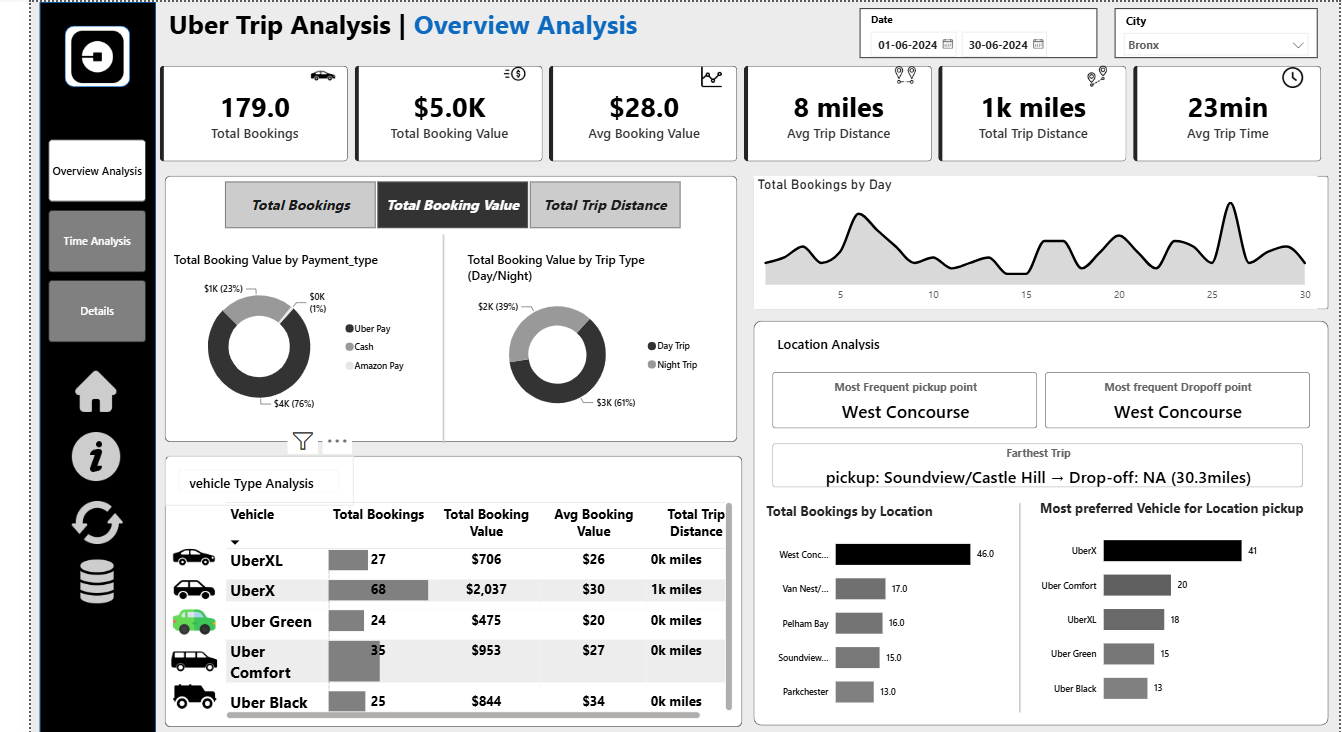

The dashboard page shown, as its layout file describes it:
{"tool":"powerbi","page":{"name":"Overview Analysis","canvas":[1600,900],"ordinal":0},"visuals":[{"type":"shape","box":[10.3,0,142,900.5],"z":0},{"type":"textbox","box":[163.6,0,781.1,197.2],"z":1000},{"type":"cardVisual","fields":{"Data":["Trip Details.Total Bookings","Trip Details.Total Booking Amount","Trip Details.Avg Booking Amount","Trip Details.Avg Trip Distance","Trip Details.Total Trip Distance","Trip Details.Avg Trip Time"]},"box":[140.6,61.1,1459.8,151.3],"z":2000},{"type":"image","box":[567.1,74.9,48.9,26],"z":3000},{"type":"image","box":[1051.6,76.4,35.2,26],"z":4000},{"type":"image","box":[1284,78,41.3,26],"z":5000},{"type":"image","box":[1530.1,78,26,29],"z":6000},{"type":"shape","box":[163.6,212.5,700.1,325.6],"z":7000},{"type":"slicer","fields":{"Values":["Dynamic Measure.Dynamic Measure"]},"box":[210.9,212.7,607.3,70.9],"z":8000},{"type":"image","box":[817.8,76.4,29,30.6],"z":9000},{"type":"donutChart","fields":{"Y":["Trip Details.Total Bookings"],"Category":["Trip Details.Payment_type"]},"box":[169.1,303.6,300,214.5],"z":10000},{"type":"image","box":[331.7,73.4,52,33.6],"z":11000},{"type":"donutChart","fields":{"Y":["Trip Details.Total Bookings"],"Category":["Trip Details.Trip Type (Day/Night)"]},"box":[529.1,303.6,300,214.5],"z":12000},{"type":"shape","box":[163.6,554.9,706.2,331.7],"z":13000},{"type":"pivotTable","fields":{"Rows":["Trip Details.Vehicle"],"Values":["Trip Details.Total Bookings","Trip Details.Total Booking Value","Trip Details.Avg Booking Value","Trip Details.Total Trip Distance"]},"box":[234.5,607.3,629.1,274.5],"z":14000},{"type":"image","box":[170.1,732.2,59.6,52],"z":15000},{"type":"image","box":[170.1,692.4,59.6,52],"z":16000},{"type":"image","box":[168.6,773.4,62.7,65.7],"z":17000},{"type":"image","box":[168.6,649.6,62.7,58.1],"z":18000},{"type":"image","box":[166.3,822.4,67.3,53.5],"z":19000},{"type":"cardVisual","fields":{"Data":["Trip Details.Title for Grid"]},"box":[163.6,554.9,230.8,61.1],"z":20000},{"type":"shape","box":[883.5,212.5,703.1,163.6],"z":21000},{"type":"areaChart","fields":{"Category":["Calender Table.Date.Variation.Date Hierarchy.Day"],"Y":["Trip Details.Total Bookings"]},"box":[883.5,212.5,689.4,163.6],"z":22000},{"type":"shape","box":[883.6,390.2,703.3,495.1],"z":23000},{"type":"cardVisual","fields":{"Data":["Trip Details.Most Frequent pickup point","Trip Details.Most frequent Dropoff point"]},"box":[890.2,436.1,691.8,103.3],"z":24000},{"type":"cardVisual","fields":{"Data":["Trip Details.Farthest Trip"]},"box":[890.2,523,683.6,88.5],"z":25000},{"type":"barChart","fields":{"Category":["Location Table.Location"],"Y":["Trip Details.Total Bookings"]},"box":[893.4,611.5,309.8,268.9],"z":26000},{"type":"barChart","title":"Most preferred Vehicle for Location pickup","fields":{"Category":["Trip Details.Vehicle"],"Y":["CountNonNull(Trip Details.PULocationID)"]},"box":[1228.9,606.8,334.8,269],"z":27000},{"type":"shape","box":[480,284.3,48.9,255.3],"z":28000},{"type":"shape","box":[1185.2,613.1,49.2,255.7],"z":29000},{"type":"cardVisual","fields":{"Data":["Trip Details.Title for Location"]},"box":[883.5,389.8,194.1,53.5],"z":30000},{"type":"slicer","fields":{"Values":["Calender Table.Date"]},"box":[1013.4,7.6,290.4,61.1],"z":31000},{"type":"slicer","fields":{"Values":["Location Table.City"]},"box":[1325.2,7.6,247.6,61.1],"z":32000},{"type":"shape","box":[41.3,29,80,74.9],"z":33000},{"type":"image","box":[41.3,35.2,79.5,64.2],"z":34000},{"type":"pageNavigator","box":[21.4,168.1,119.2,249.2],"z":35000},{"type":"image","box":[41.3,450.9,76.4,50.4],"z":36000},{"type":"image","box":[44.3,525.8,70.3,59.6],"z":37000},{"type":"image","box":[44.3,681.7,73.4,53.5],"z":38000},{"type":"image","box":[45.9,605.3,70.3,62.7],"z":39000}]}

Visuals, with their boxes on the page's 1600x900 design canvas (x1, y1, x2, y2). These are canvas units, not pixel positions in the 1342x732 screenshot, which may show the page scaled, cropped or inside an application window:
shape: {"x1": 10, "y1": 0, "x2": 152, "y2": 900}
textbox: {"x1": 164, "y1": 0, "x2": 945, "y2": 197}
cardVisual - Trip Details.Total Bookings x Trip Details.Total Booking Amount: {"x1": 141, "y1": 61, "x2": 1600, "y2": 212}
image: {"x1": 567, "y1": 75, "x2": 616, "y2": 101}
image: {"x1": 1052, "y1": 76, "x2": 1087, "y2": 102}
image: {"x1": 1284, "y1": 78, "x2": 1325, "y2": 104}
image: {"x1": 1530, "y1": 78, "x2": 1556, "y2": 107}
shape: {"x1": 164, "y1": 212, "x2": 864, "y2": 538}
slicer - Dynamic Measure.Dynamic Measure: {"x1": 211, "y1": 213, "x2": 818, "y2": 284}
image: {"x1": 818, "y1": 76, "x2": 847, "y2": 107}
donutChart - Trip Details.Total Bookings x Trip Details.Payment_type: {"x1": 169, "y1": 304, "x2": 469, "y2": 518}
image: {"x1": 332, "y1": 73, "x2": 384, "y2": 107}
donutChart - Trip Details.Total Bookings x Trip Details.Trip Type (Day/Night): {"x1": 529, "y1": 304, "x2": 829, "y2": 518}
shape: {"x1": 164, "y1": 555, "x2": 870, "y2": 887}
pivotTable - Trip Details.Vehicle x Trip Details.Total Bookings: {"x1": 234, "y1": 607, "x2": 864, "y2": 882}
image: {"x1": 170, "y1": 732, "x2": 230, "y2": 784}
image: {"x1": 170, "y1": 692, "x2": 230, "y2": 744}
image: {"x1": 169, "y1": 773, "x2": 231, "y2": 839}
image: {"x1": 169, "y1": 650, "x2": 231, "y2": 708}
image: {"x1": 166, "y1": 822, "x2": 234, "y2": 876}
cardVisual - Trip Details.Title for Grid: {"x1": 164, "y1": 555, "x2": 394, "y2": 616}
shape: {"x1": 884, "y1": 212, "x2": 1587, "y2": 376}
areaChart - Calender Table.Date.Variation.Date Hierarchy.Day x Trip Details.Total Bookings: {"x1": 884, "y1": 212, "x2": 1573, "y2": 376}
shape: {"x1": 884, "y1": 390, "x2": 1587, "y2": 885}
cardVisual - Trip Details.Most Frequent pickup point x Trip Details.Most frequent Dropoff point: {"x1": 890, "y1": 436, "x2": 1582, "y2": 539}
cardVisual - Trip Details.Farthest Trip: {"x1": 890, "y1": 523, "x2": 1574, "y2": 612}
barChart - Location Table.Location x Trip Details.Total Bookings: {"x1": 893, "y1": 612, "x2": 1203, "y2": 880}
"Most preferred Vehicle for Location pickup" barChart: {"x1": 1229, "y1": 607, "x2": 1564, "y2": 876}
shape: {"x1": 480, "y1": 284, "x2": 529, "y2": 540}
shape: {"x1": 1185, "y1": 613, "x2": 1234, "y2": 869}
cardVisual - Trip Details.Title for Location: {"x1": 884, "y1": 390, "x2": 1078, "y2": 443}
slicer - Calender Table.Date: {"x1": 1013, "y1": 8, "x2": 1304, "y2": 69}
slicer - Location Table.City: {"x1": 1325, "y1": 8, "x2": 1573, "y2": 69}
shape: {"x1": 41, "y1": 29, "x2": 121, "y2": 104}
image: {"x1": 41, "y1": 35, "x2": 121, "y2": 99}
pageNavigator: {"x1": 21, "y1": 168, "x2": 141, "y2": 417}
image: {"x1": 41, "y1": 451, "x2": 118, "y2": 501}
image: {"x1": 44, "y1": 526, "x2": 115, "y2": 585}
image: {"x1": 44, "y1": 682, "x2": 118, "y2": 735}
image: {"x1": 46, "y1": 605, "x2": 116, "y2": 668}
